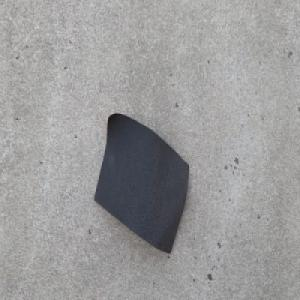PaintChip: (93, 111, 190, 255)
